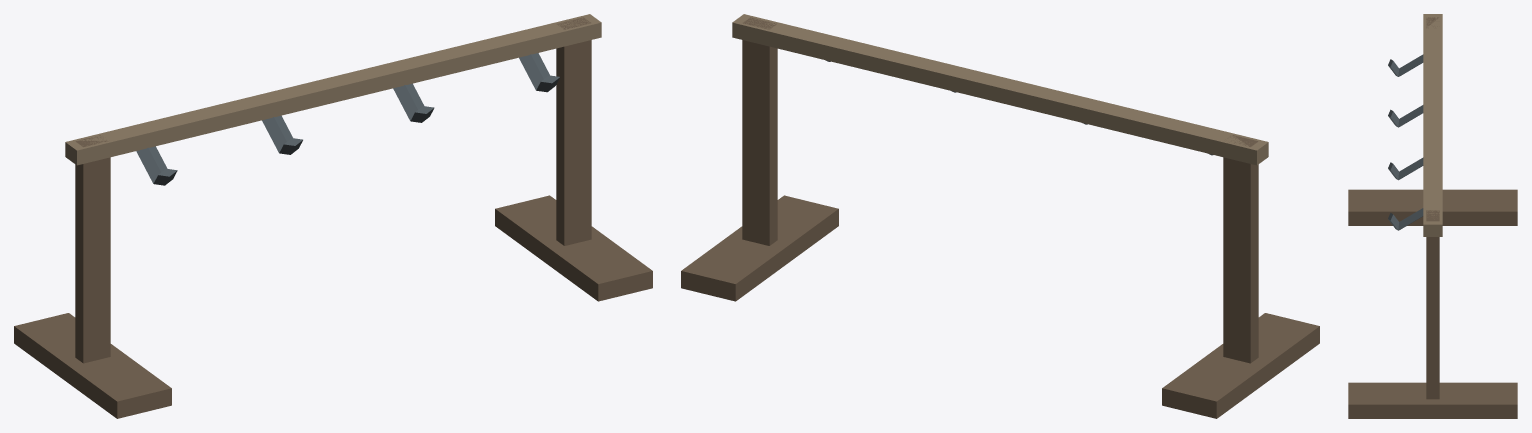
File: heavy_coat_rack.glb
3 renders of one model, left to right at view 1: azimuth 30°, elevation 25°; view 2: azimuth 150°, elevation 25°; view 3: azimuth 270°, elevation 25°, orthographic. The views are drawn at different scales.
Visible parts, largest first — view 1: heavy_coat_rack; view 2: heavy_coat_rack; view 3: heavy_coat_rack.
Boxes of the visible parts, x1=… form: heavy_coat_rack: x1=14, y1=14, x2=652, y2=418; heavy_coat_rack: x1=681, y1=14, x2=1319, y2=418; heavy_coat_rack: x1=1348, y1=14, x2=1517, y2=418.
Size of the model in its own units: 3 by 1.25 by 1.
